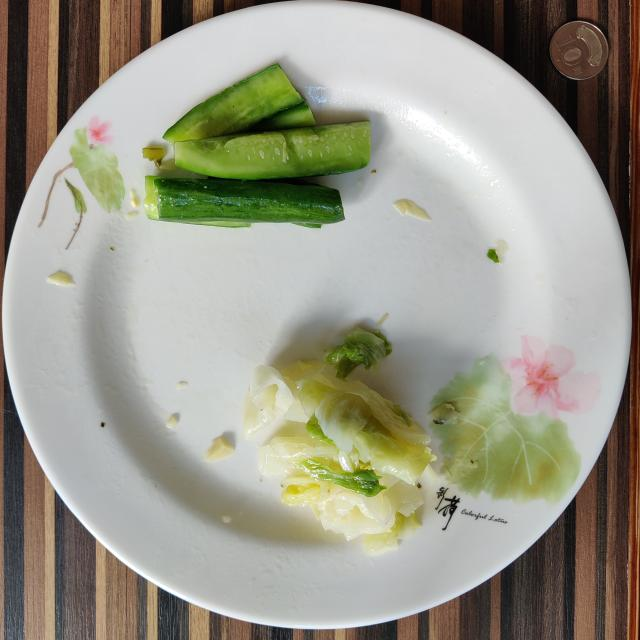cabbage: (242, 328, 436, 555)
coin: (550, 21, 609, 80)
cucumber: (145, 64, 371, 228)
